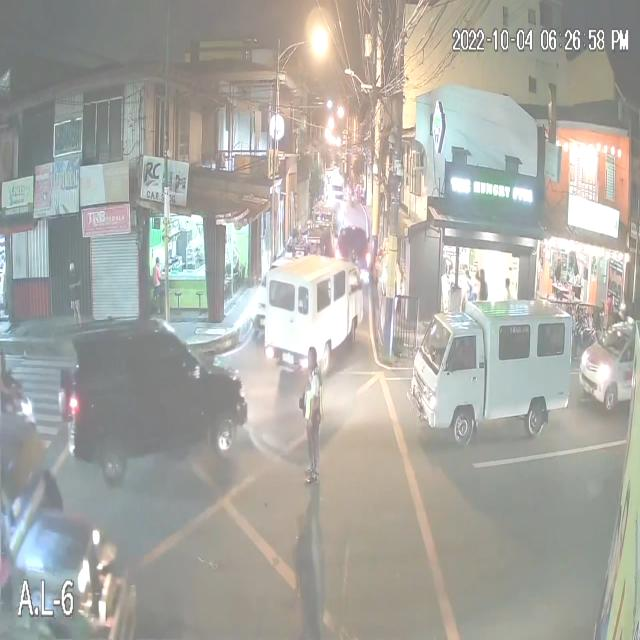Full-Faced: (0, 343, 11, 376)
